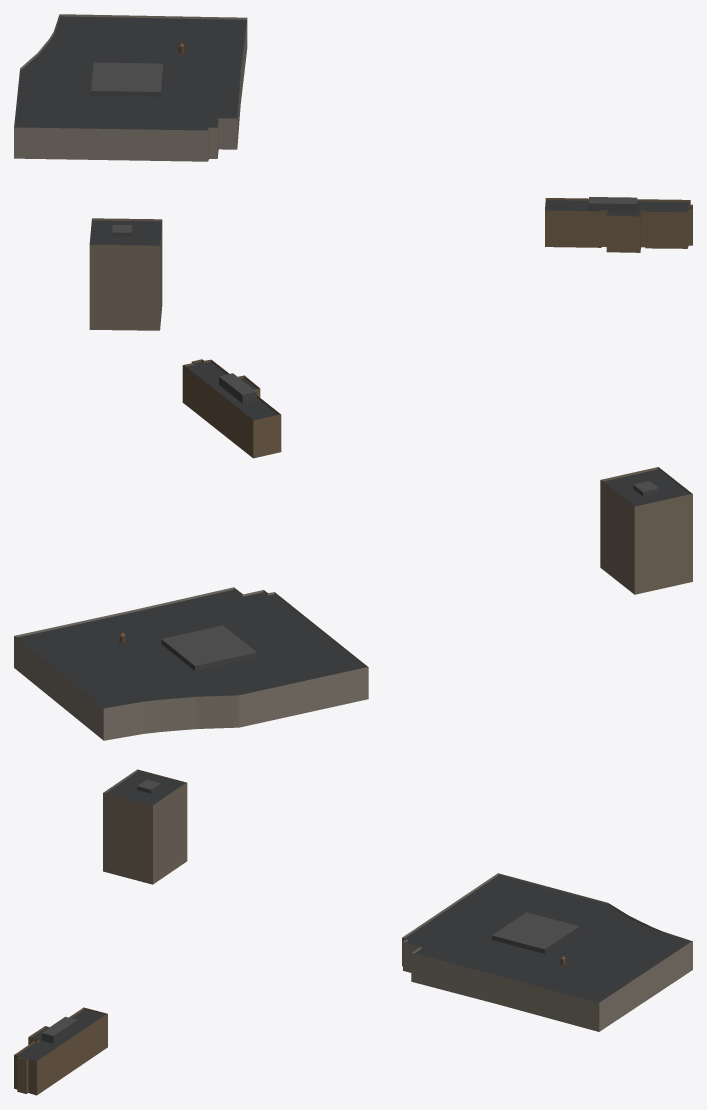
The model's file is manhattan_-05_-01.glb.
The picture shows the model from 3 angles, top to bottom: view 1: azimuth 30°, elevation 25°; view 2: azimuth 150°, elevation 25°; view 3: azimuth 270°, elevation 25°; orthographic projection. The views are drawn at different scales.
Visible parts, largest first — view 1: BLD_lowrise_-05_-01, BLD_midrise_-05_-01; view 2: BLD_lowrise_-05_-01, BLD_midrise_-05_-01; view 3: BLD_lowrise_-05_-01, BLD_midrise_-05_-01.
Part boxes in pixels (x1,y1,x2,y2): BLD_lowrise_-05_-01: (14, 14, 692, 252); BLD_midrise_-05_-01: (89, 218, 162, 330); BLD_lowrise_-05_-01: (14, 359, 368, 740); BLD_midrise_-05_-01: (600, 467, 692, 594); BLD_lowrise_-05_-01: (14, 873, 692, 1095); BLD_midrise_-05_-01: (103, 769, 187, 884).
Size of the model in its own units: 340 by 51.65 by 394.
